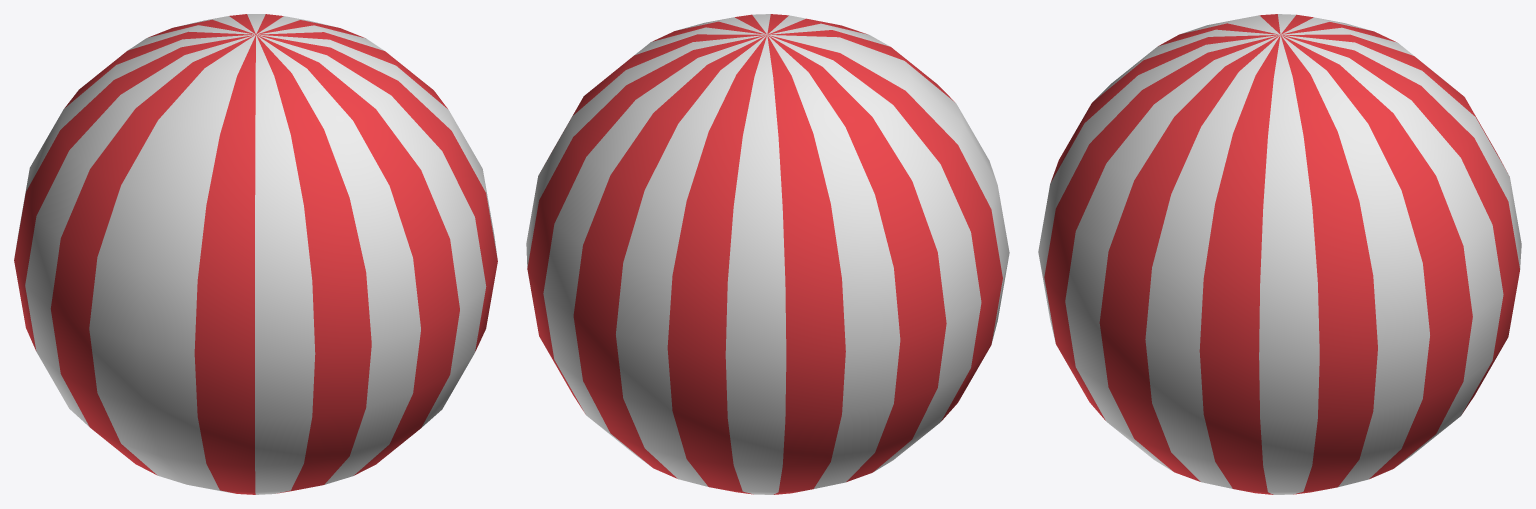
File: ball.fbx
3 renders of one model, left to right at view 1: azimuth 30°, elevation 25°; view 2: azimuth 150°, elevation 25°; view 3: azimuth 270°, elevation 25°, orthographic.
Parts seen in each view (by area): view 1: ball; view 2: ball; view 3: ball.
Part boxes in pixels (<box>): ball: <box>14,14,497,494</box>; ball: <box>526,14,1009,494</box>; ball: <box>1038,14,1521,494</box>.
Bounding box in the file's own units: 37.91 × 38 × 37.9.
